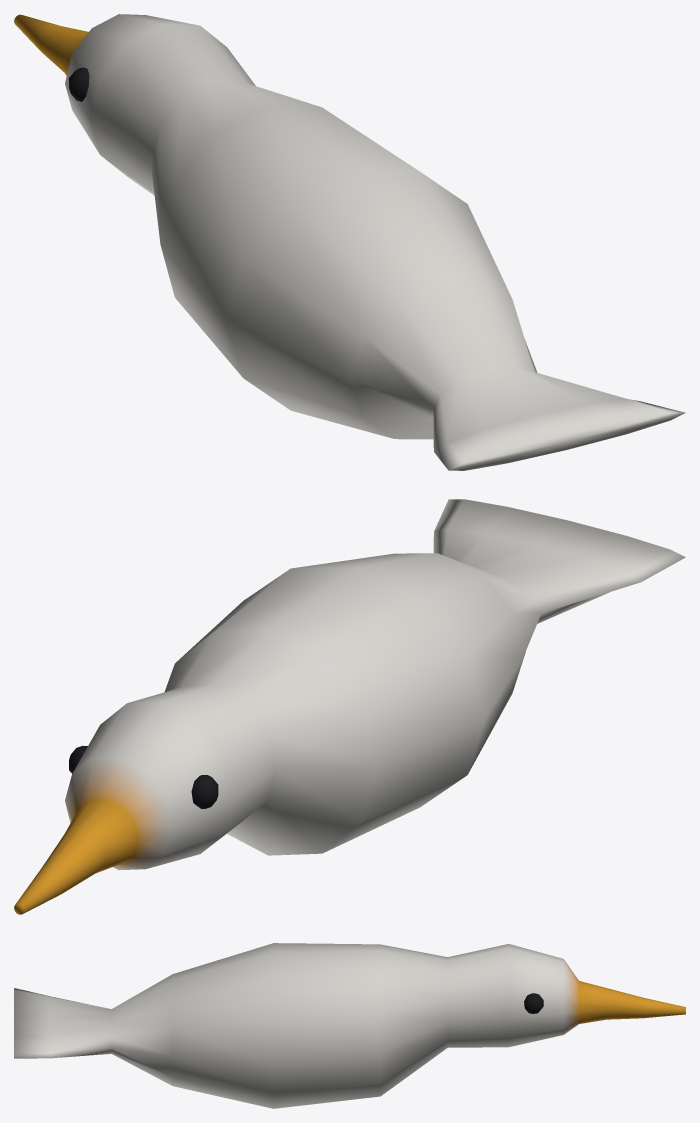
File: gull_body.glb
3 renders of one model, top to bottom at view 1: azimuth 30°, elevation 25°; view 2: azimuth 150°, elevation 25°; view 3: azimuth 270°, elevation 25°, orthographic. The views are drawn at different scales.
Parts seen in each view (by area): view 1: SkyRally_GullBody; view 2: SkyRally_GullBody; view 3: SkyRally_GullBody.
Part boxes in pixels (x1,y1,x2,y2): SkyRally_GullBody: [14, 14, 685, 470]; SkyRally_GullBody: [14, 499, 685, 914]; SkyRally_GullBody: [14, 943, 685, 1108].
Size of the model in its own units: 0.6 by 0.545 by 2.2.
